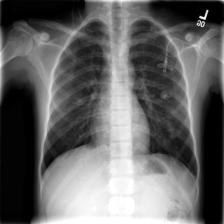normal: (39, 17, 198, 194)
